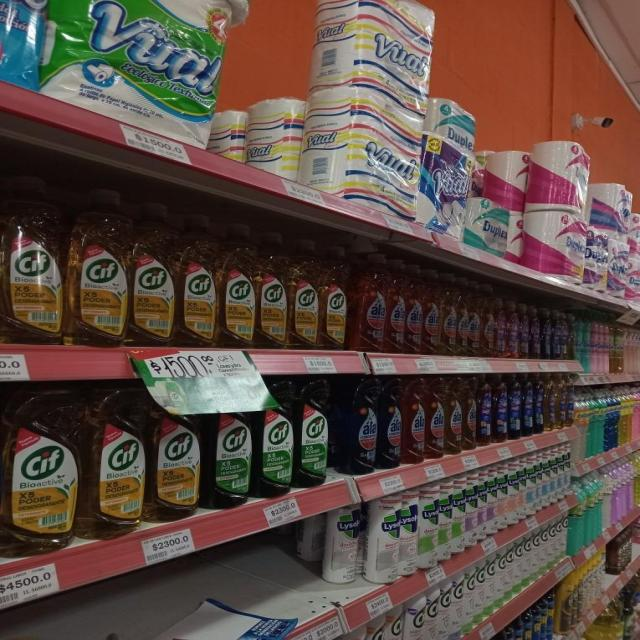ala_conc_azul: (346, 379, 378, 475), (378, 379, 402, 469)
ala_conc_rojo: (352, 250, 386, 354), (402, 377, 426, 464), (427, 376, 445, 459), (387, 278, 405, 354), (446, 376, 463, 455), (406, 284, 423, 355), (423, 290, 440, 356), (442, 288, 458, 356), (463, 376, 477, 450), (457, 291, 469, 357), (469, 294, 481, 357), (482, 296, 494, 358), (495, 298, 506, 358)
cif_conc_bot_amarilla: (0, 385, 79, 557), (1, 175, 63, 345), (66, 186, 128, 346), (82, 385, 145, 540), (148, 389, 200, 522), (130, 200, 174, 348), (176, 212, 217, 348), (218, 222, 256, 349), (257, 231, 288, 349), (288, 238, 318, 351), (320, 243, 348, 351)
cif_conc_botella_verde: (203, 386, 252, 508), (255, 379, 293, 498), (295, 377, 330, 488)
zorro: (493, 374, 508, 444), (478, 375, 492, 447)
